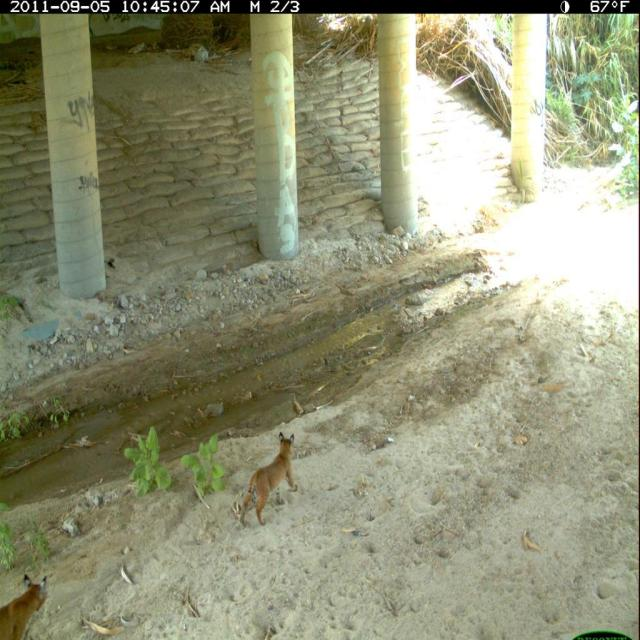bobcat: (235, 428, 302, 531), (1, 569, 54, 640)
